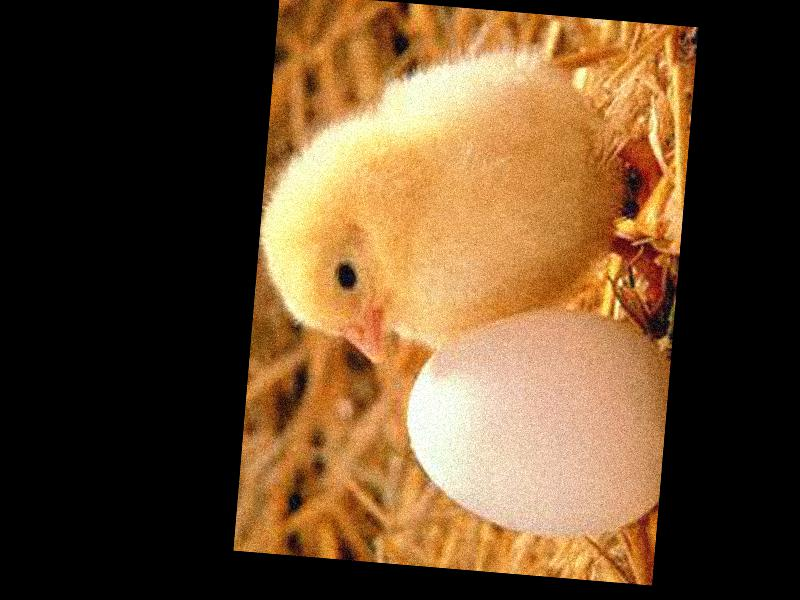Eggs: (396, 296, 674, 544)
